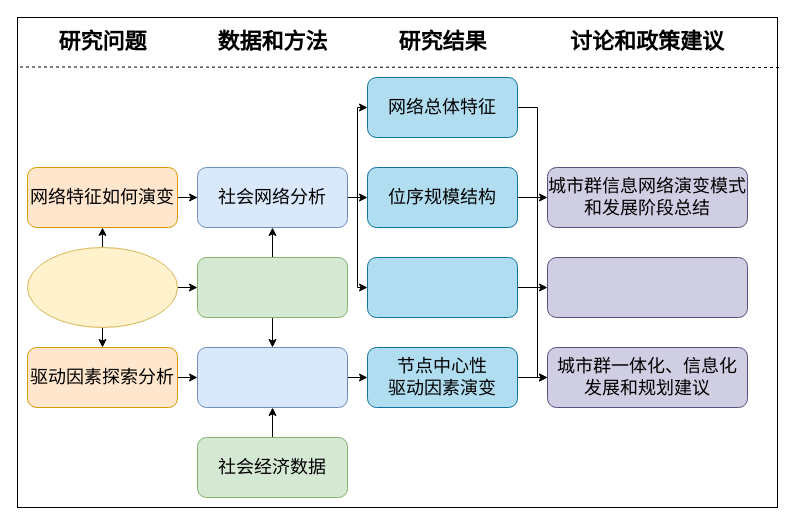
Image size: 798x525. Some labels were removed from this diagram. The centre of each missing label's shape, as x and y in pixels:
"位序规模结构的比较 和深入分析" goes at pixel 647 287.
"地理探测器" goes at pixel 272 377.
"城市群信息网络 结构演变" goes at pixel 102 287.
"百度指数信息网络" goes at pixel 272 287.
"节点特征" goes at pixel 442 287.
